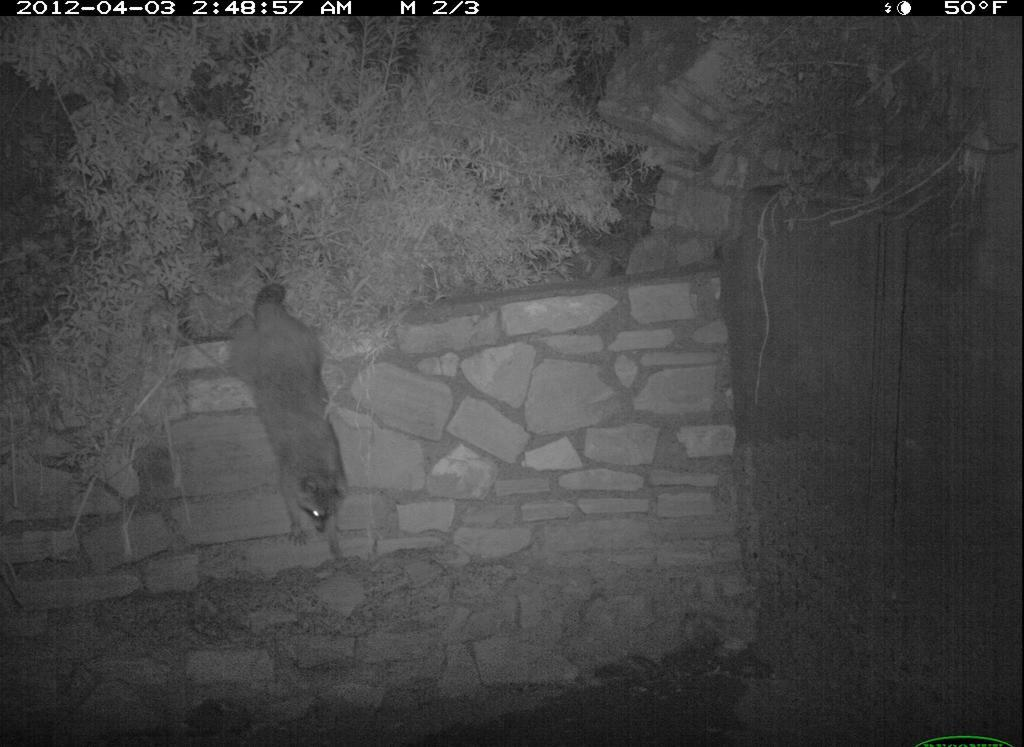raccoon: (209, 274, 359, 568)
